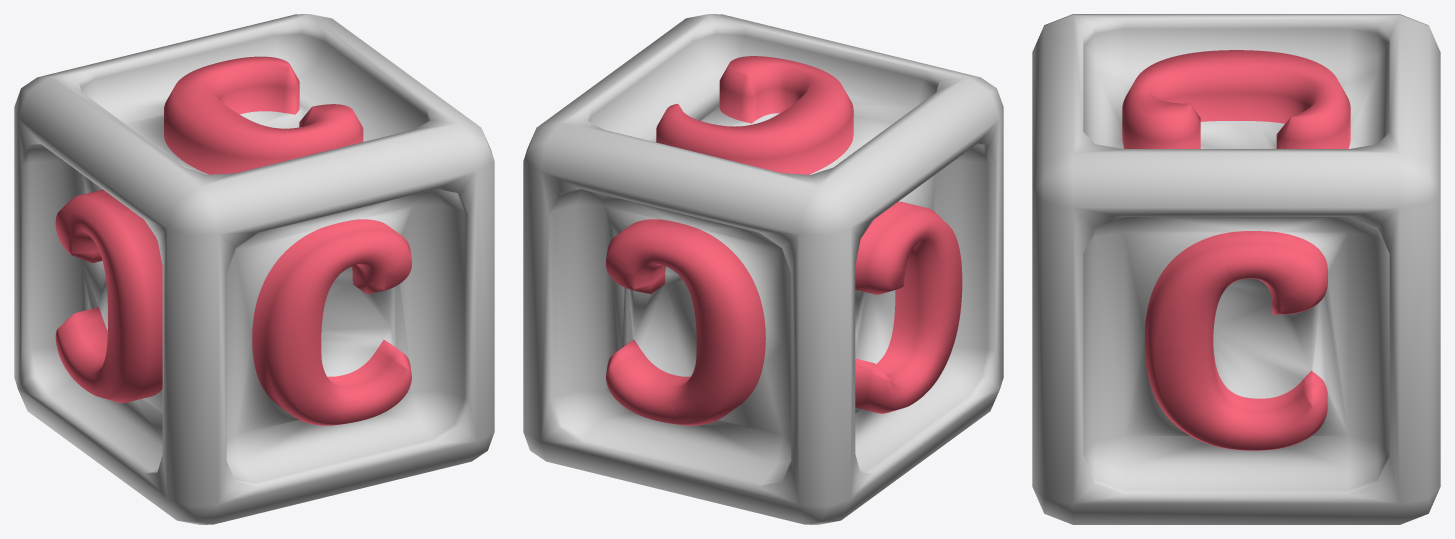
The picture shows the model from 3 angles, left to right: view 1: azimuth 30°, elevation 25°; view 2: azimuth 150°, elevation 25°; view 3: azimuth 270°, elevation 25°; orthographic projection. The views are drawn at different scales.
Parts seen in each view (by area): view 1: obj_0; view 2: obj_0; view 3: obj_0.
Part boxes in pixels (x1=…): obj_0: x1=14, y1=14, x2=494, y2=524; obj_0: x1=523, y1=14, x2=1003, y2=524; obj_0: x1=1032, y1=14, x2=1440, y2=524.
Bounding box in the file's own units: 100 × 100 × 100.
